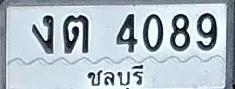0: (142, 13, 163, 51)
4: (116, 13, 137, 52)
8: (170, 13, 190, 51)
9: (196, 12, 217, 50)
A07: (32, 14, 54, 53)
A21: (64, 14, 89, 53)
CBI: (84, 65, 150, 89)
